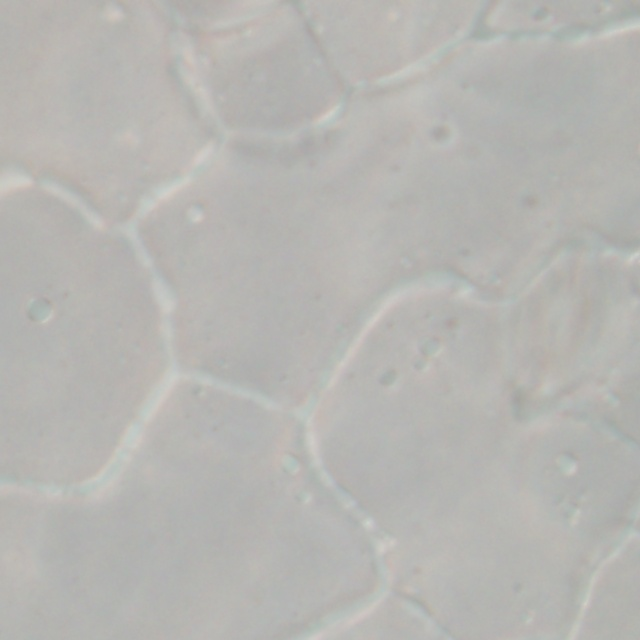center: (524, 315, 611, 338), (351, 38, 437, 51), (190, 13, 249, 18)
stomata-huw1: (496, 230, 639, 423), (299, 1, 489, 88), (155, 0, 284, 31)
